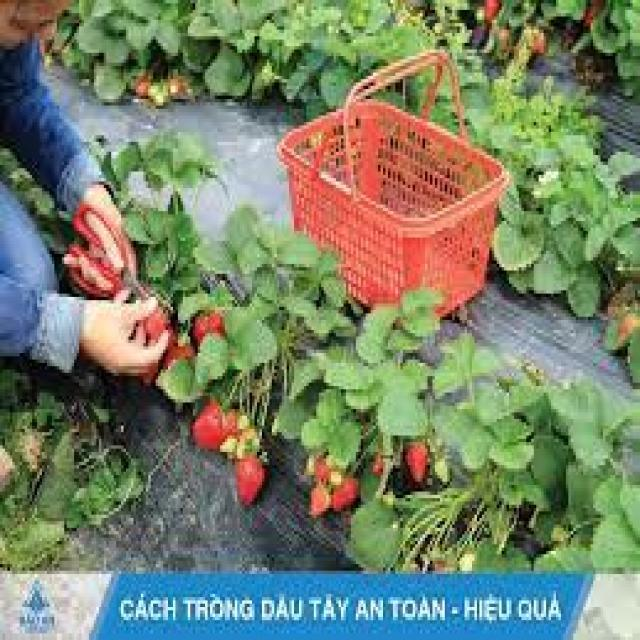Fruta sana: (310, 456, 358, 521), (198, 393, 230, 456), (236, 452, 264, 512), (400, 443, 430, 485), (195, 310, 224, 352), (144, 309, 172, 343), (166, 344, 194, 376)
